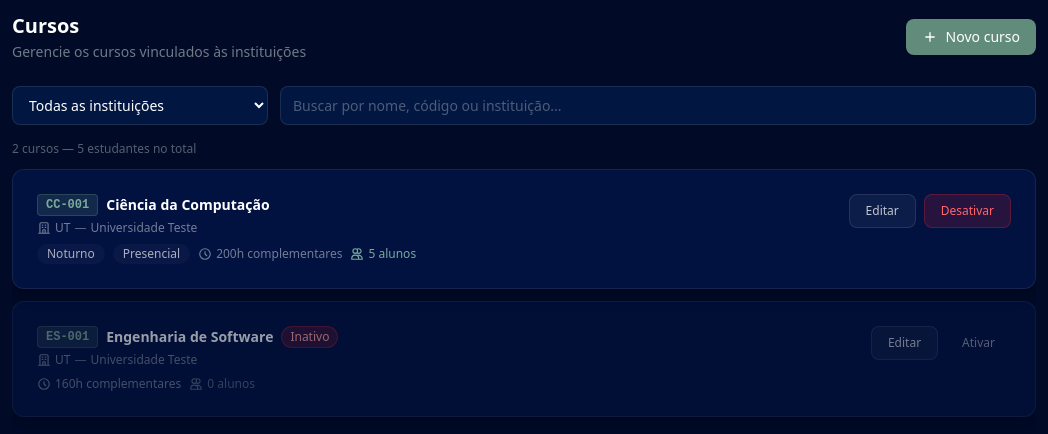
Scenario: Cursos — filtros › busca por código retorna resultado correto
Expected: the heading "Ciência da Computação" is shown, top-left (106, 195), bottom-right (270, 215)
Type "CC-001" into the field with placeholder "Buscar por nome, código ou instituição...".
click(658, 106); type("CC-001")  # box top-left (280, 86), bottom-right (1036, 125)
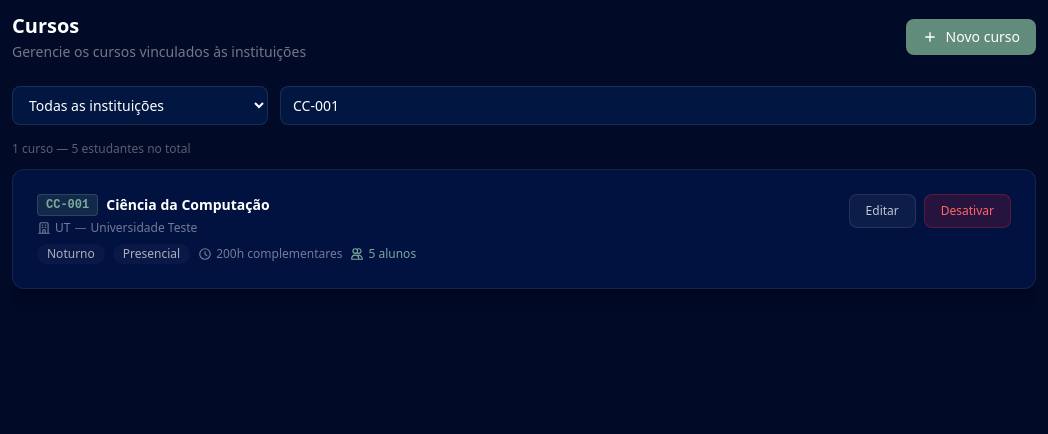
Expected: the heading "Ciência da Computação" is shown, top-left (106, 195), bottom-right (270, 215)
Now the heading "Engenharia de Software" is gone
